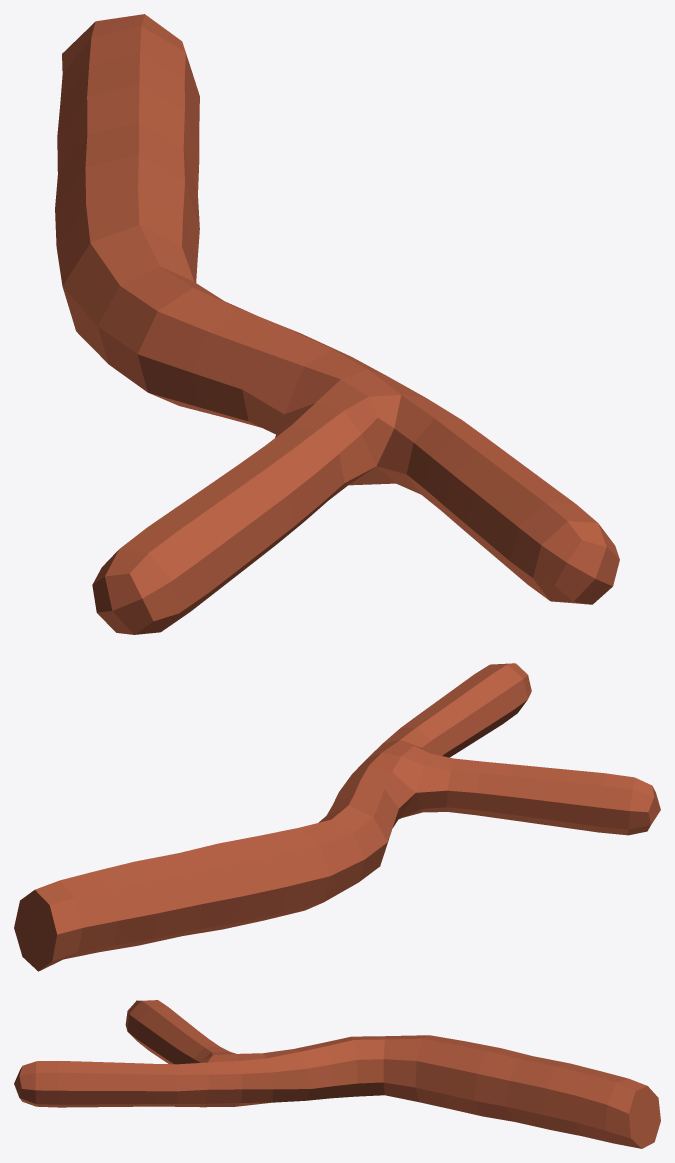
Rendered from TreeBranch.fbx.
3 renders of one model, top to bottom at view 1: azimuth 30°, elevation 25°; view 2: azimuth 150°, elevation 25°; view 3: azimuth 270°, elevation 25°, orthographic. The views are drawn at different scales.
Parts seen in each view (by area): view 1: Tree.001; view 2: Tree.001; view 3: Tree.001.
Part boxes in pixels (x1,y1,x2,y2): Tree.001: [55, 14, 619, 634]; Tree.001: [14, 663, 660, 971]; Tree.001: [14, 1000, 660, 1148].
Bounding box in the file's own units: 193 × 48.94 × 380.
